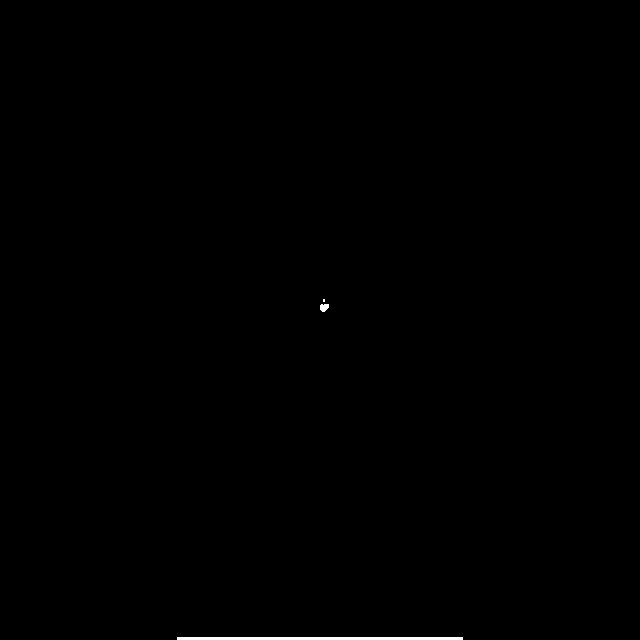03_intrusion: (316, 294, 332, 317)
